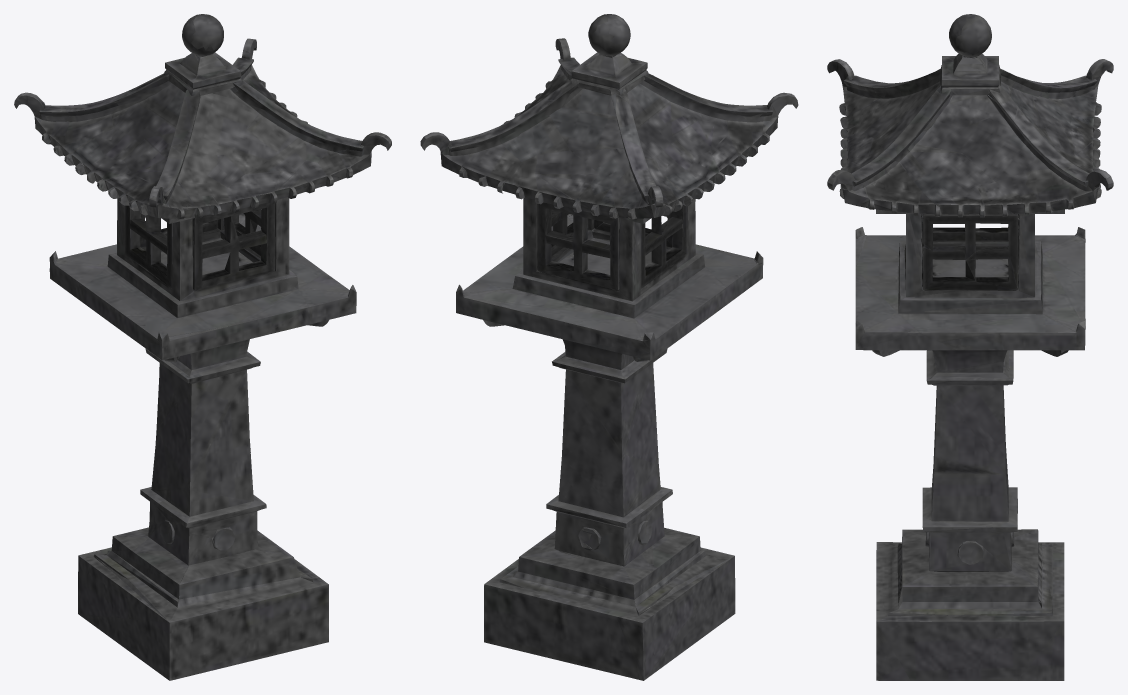
File: toro.glb
3 renders of one model, left to right at view 1: azimuth 30°, elevation 25°; view 2: azimuth 150°, elevation 25°; view 3: azimuth 270°, elevation 25°, orthographic. The views are drawn at different scales.
Bounding box in the file's own units: 0.7888 × 1.9 × 0.7887.
Materials: 1 (1 with a texture image).
